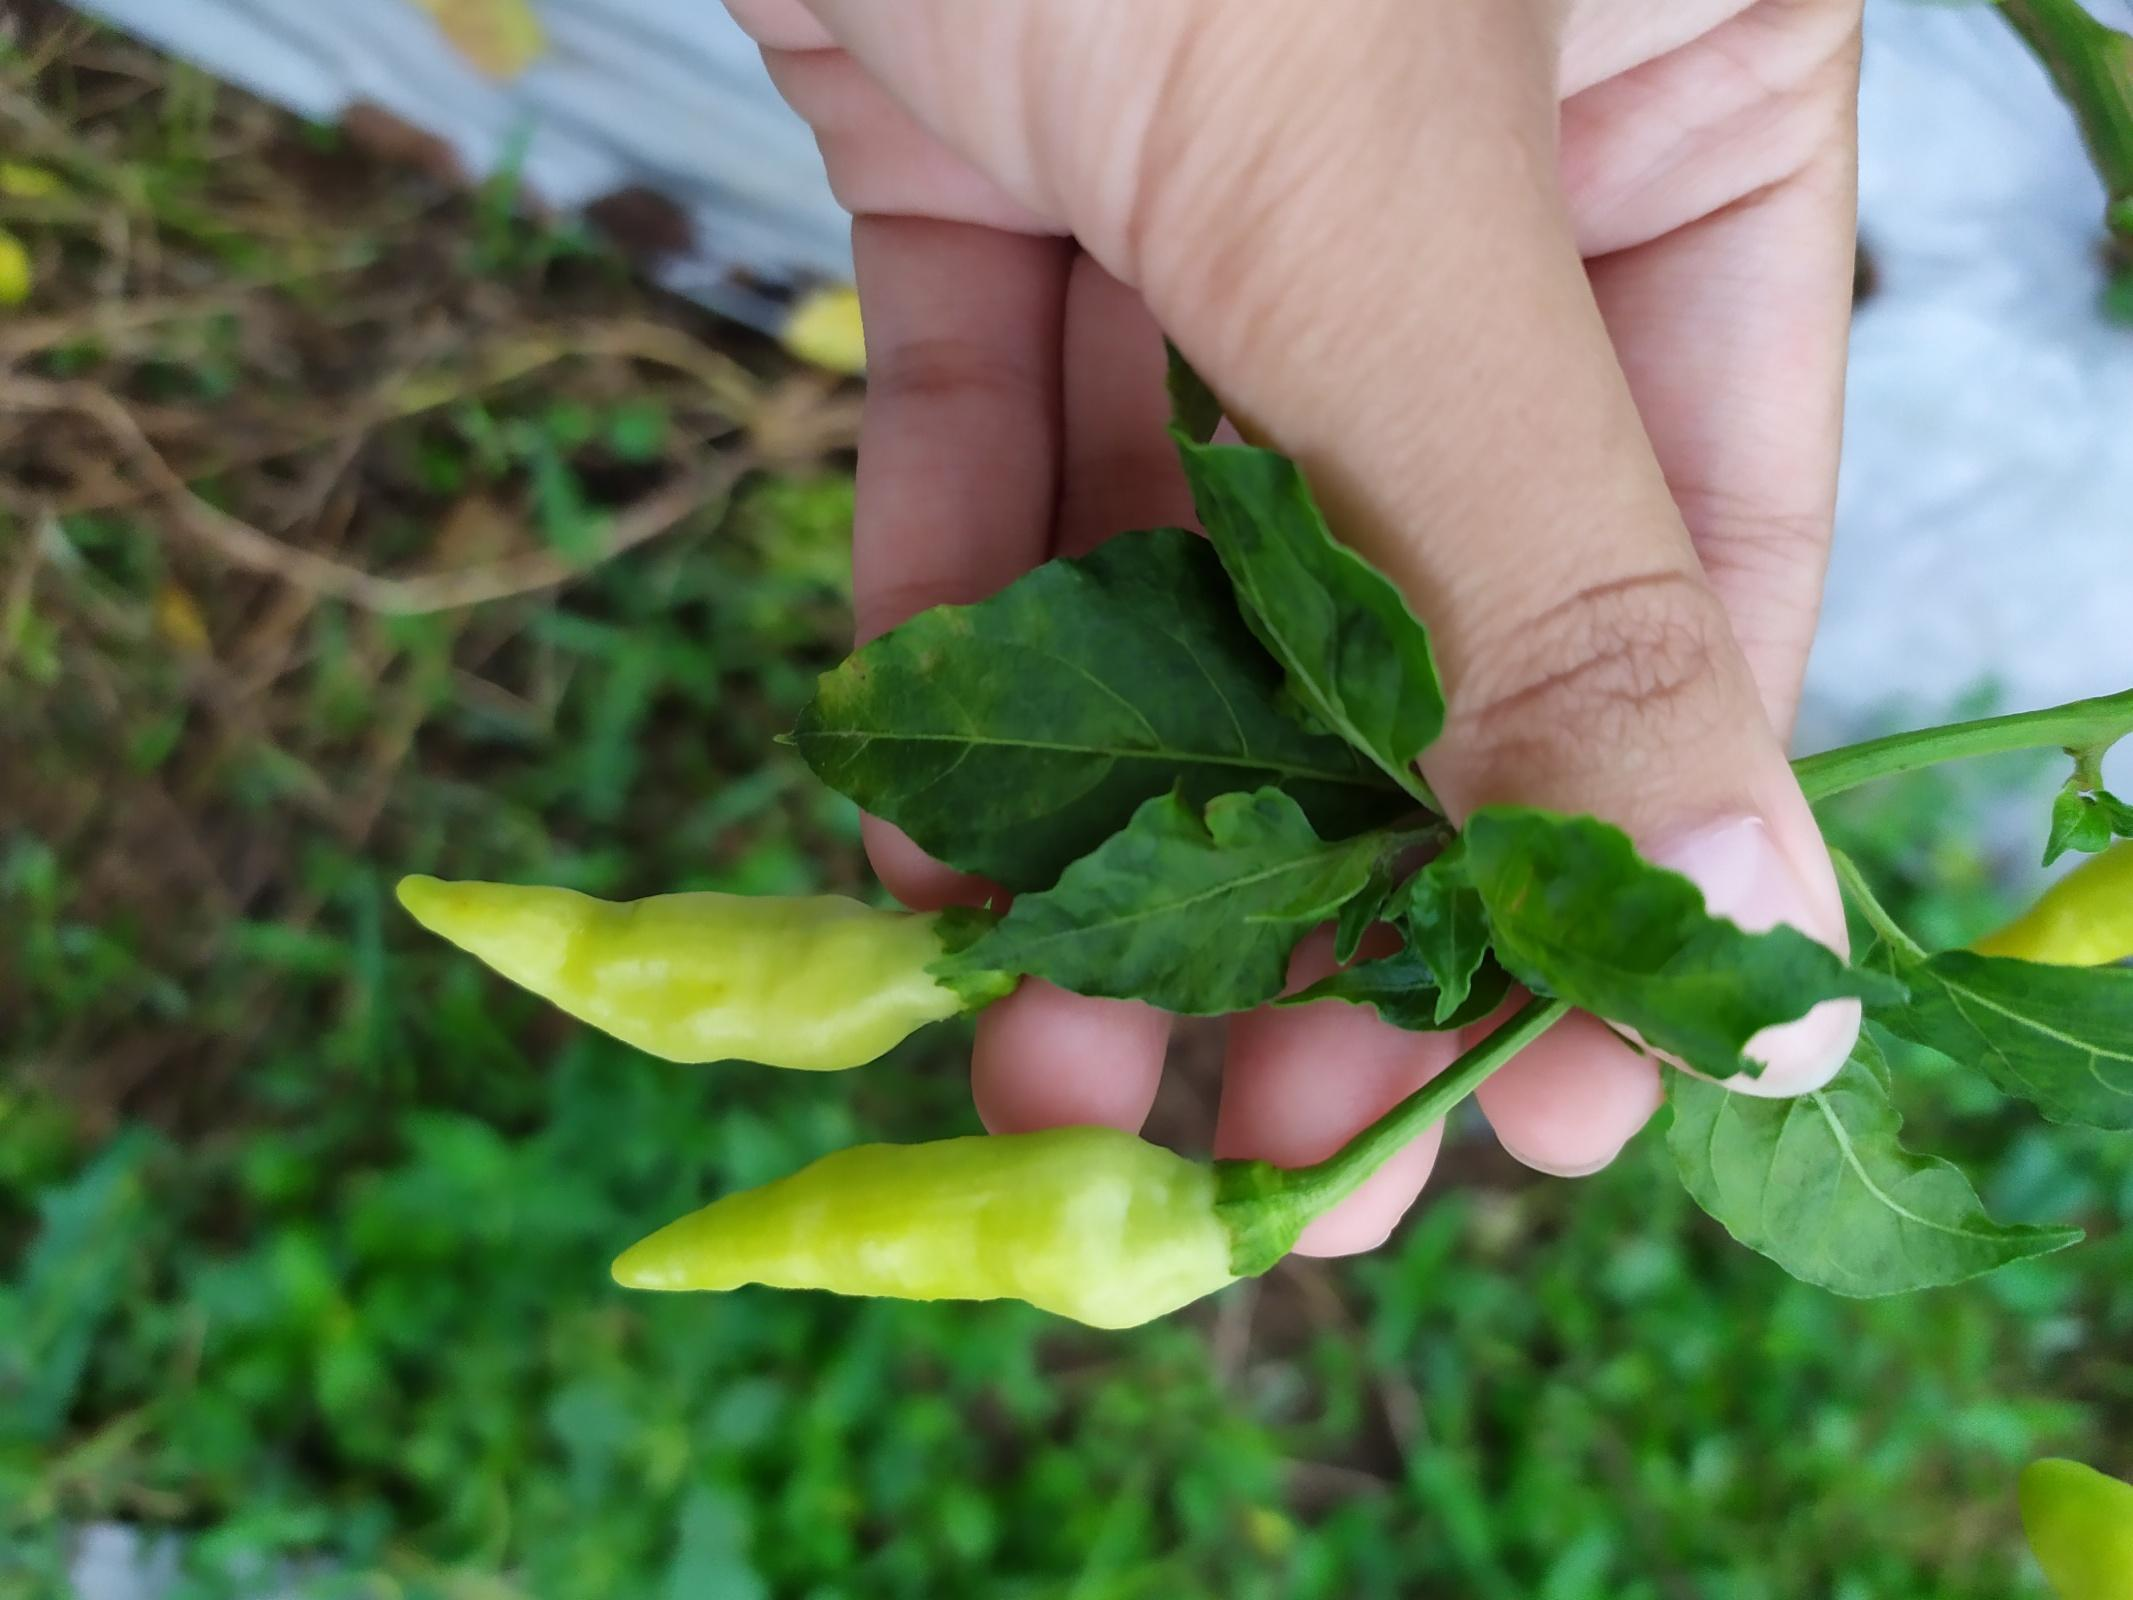cabai_normal: (605, 1126, 1259, 1333), (395, 872, 972, 1076)
